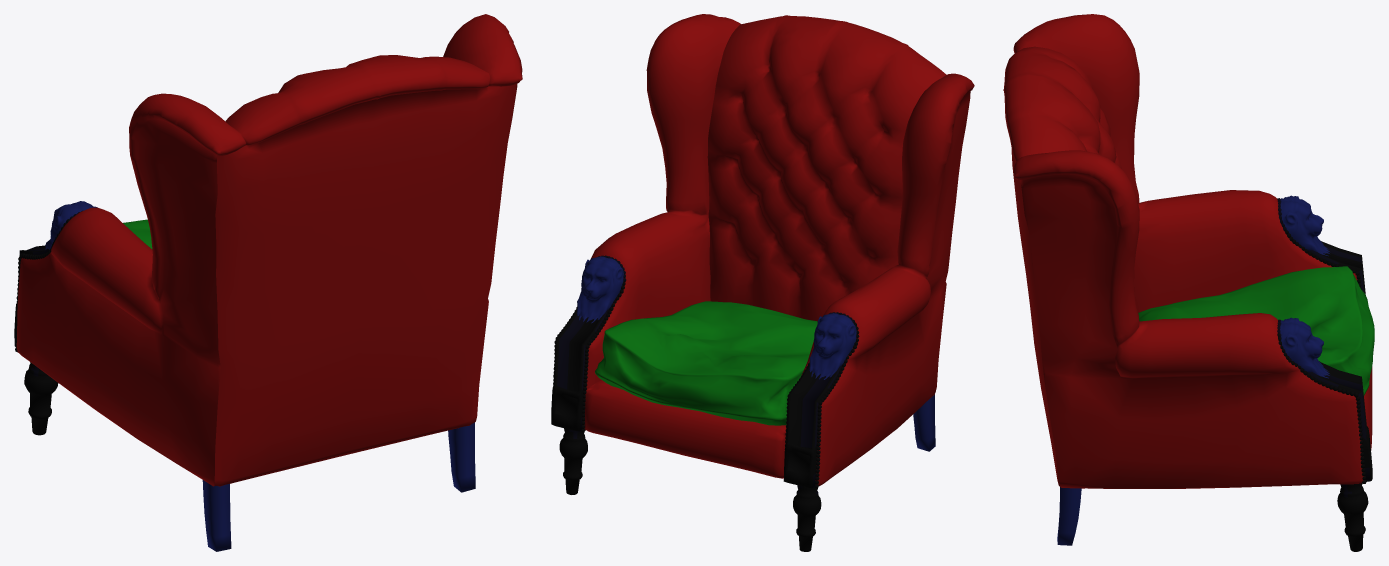
3 renders of one model, left to right at view 1: azimuth 30°, elevation 25°; view 2: azimuth 150°, elevation 25°; view 3: azimuth 270°, elevation 25°, orthographic. The views are drawn at different scales.
Parts seen in each view (by area): view 1: Body_low, FeetBack_low, FeetFront_low, Lions_low; view 2: Body_low, Cushion_low, Wood_low, Lions_low, FeetFront_low, Balls_low, FeetBack_low; view 3: Body_low, Cushion_low, Lions_low, Wood_low, FeetFront_low, Balls_low, FeetBack_low.
Part boxes in pixels (left/top/right/bottom): Body_low: left=16, top=14, right=522, bottom=486; FeetBack_low: left=202, top=422, right=475, bottom=551; FeetFront_low: left=24, top=362, right=58, bottom=435; Lions_low: left=45, top=201, right=97, bottom=249; Body_low: left=584, top=14, right=974, bottom=486; Cushion_low: left=595, top=301, right=817, bottom=425; Wood_low: left=551, top=307, right=841, bottom=488; Lions_low: left=576, top=256, right=856, bottom=379; FeetFront_low: left=559, top=428, right=821, bottom=551; Balls_low: left=553, top=255, right=859, bottom=488; FeetBack_low: left=913, top=394, right=935, bottom=451; Body_low: left=1003, top=14, right=1372, bottom=488; Cushion_low: left=1138, top=266, right=1374, bottom=395; Lions_low: left=1280, top=195, right=1329, bottom=378; Wood_low: left=1307, top=241, right=1372, bottom=481; FeetFront_low: left=1337, top=483, right=1368, bottom=551; Balls_low: left=1277, top=198, right=1366, bottom=483; FeetBack_low: left=1057, top=487, right=1081, bottom=545.
Bounding box in the file's own units: 1.64 × 2 × 1.62.
